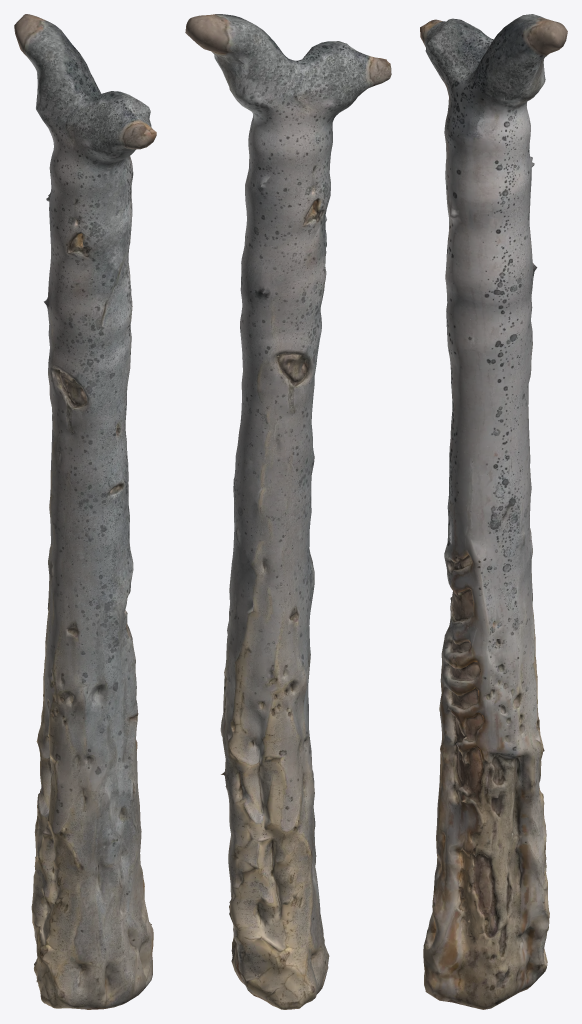
Rendered from pillar.glb.
The picture shows the model from 3 angles, left to right: view 1: azimuth 90°, elevation 25°; view 2: azimuth 150°, elevation 25°; view 3: azimuth 270°, elevation 25°; orthographic projection. The views are drawn at different scales.
Parts seen in each view (by area): view 1: dead_quiver_trunk_LOD0; view 2: dead_quiver_trunk_LOD0; view 3: dead_quiver_trunk_LOD0.
Boxes of the visible parts, left/top/right/bottom form: dead_quiver_trunk_LOD0: left=14, top=14, right=156, bottom=1009; dead_quiver_trunk_LOD0: left=185, top=14, right=391, bottom=1009; dead_quiver_trunk_LOD0: left=420, top=14, right=567, bottom=1009.
Bounding box in the file's own units: 0.3065 × 1.99 × 0.2681.
1 material, 1 textured.
